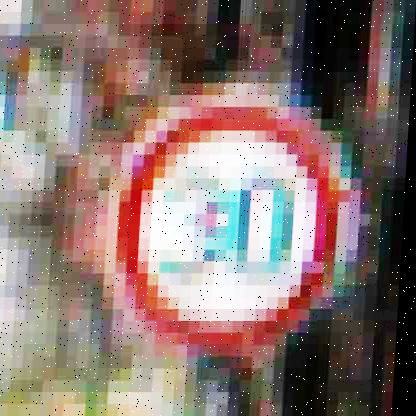Speed Limit -30-: (99, 92, 363, 355)
